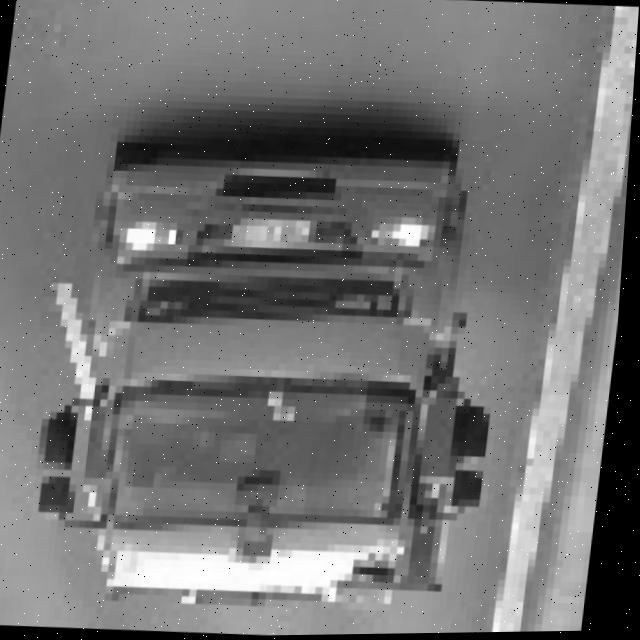truck: (22, 108, 522, 621)
